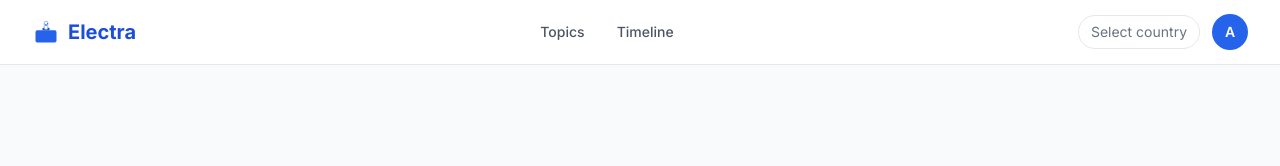
Test case: Navbar - auth states › clicking avatar opens dropdown with Sign Out option
Click the button named "account menu" at [1230, 32], box top-left (1212, 14), bottom-right (1248, 50)
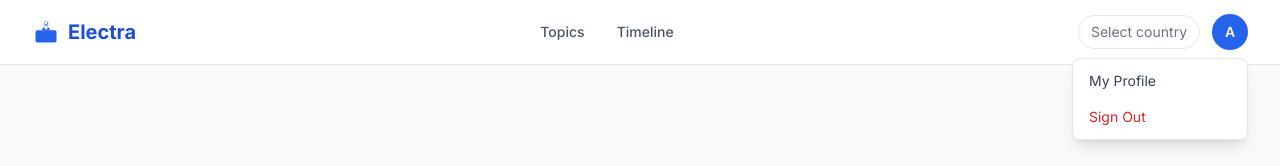
Check: the menu item "Sign Out" is shown, box top-left (1073, 99), bottom-right (1247, 135)
